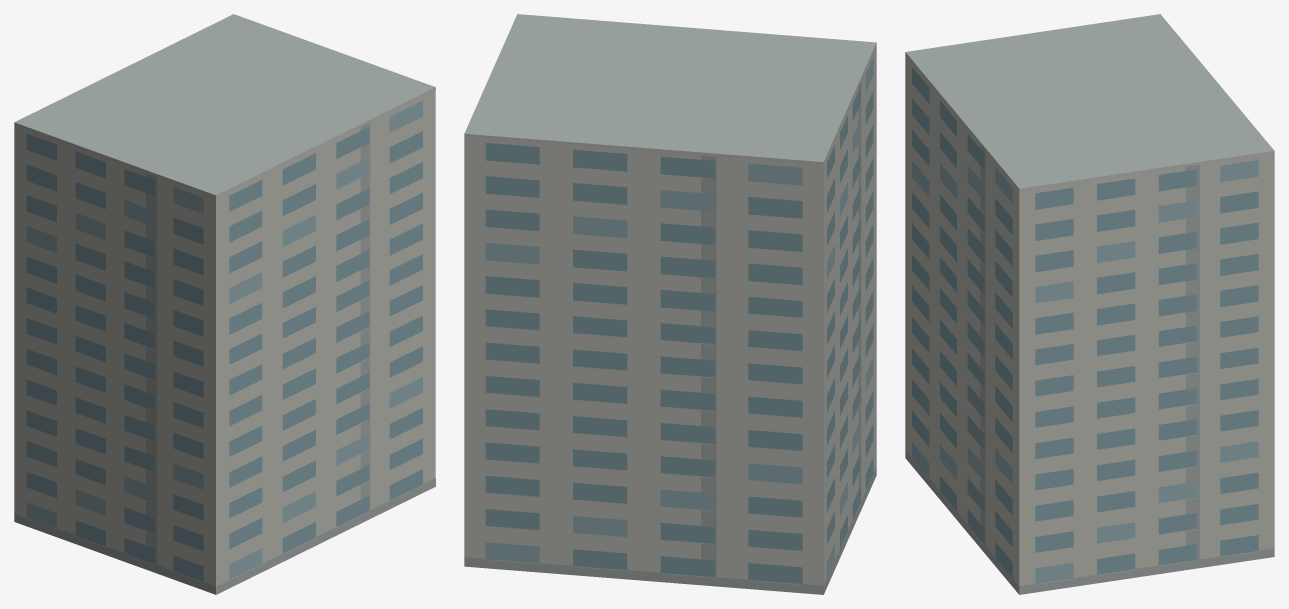
Rendered from residential-a0ac0197-cf64-487b-99f2-4550a55a029f.glb.
3 views of the same model, side by side, from view 1: azimuth 30°, elevation 25°; view 2: azimuth 150°, elevation 25°; view 3: azimuth 270°, elevation 25° (orthographic). The views are drawn at different scales.
Parts seen in each view (by area): view 1: residential-a0ac0197-cf64-487b-99f2-4550a55a029f.tmp; view 2: residential-a0ac0197-cf64-487b-99f2-4550a55a029f.tmp; view 3: residential-a0ac0197-cf64-487b-99f2-4550a55a029f.tmp.
Boxes of the visible parts, box(x1,y1,x2,y2) form: residential-a0ac0197-cf64-487b-99f2-4550a55a029f.tmp: box(14, 14, 435, 594); residential-a0ac0197-cf64-487b-99f2-4550a55a029f.tmp: box(464, 14, 876, 594); residential-a0ac0197-cf64-487b-99f2-4550a55a029f.tmp: box(905, 14, 1274, 594).
Size of the model in its own units: 33.22 by 36 by 29.66.
